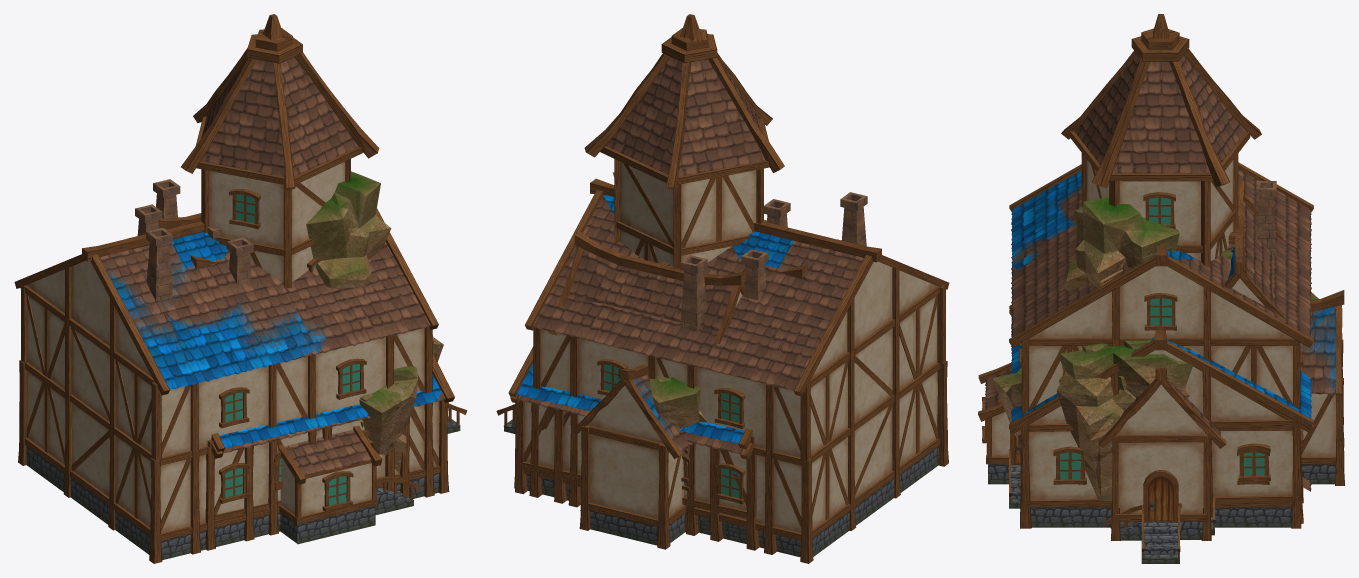
Rendered from KitMedieval.fbx.
3 views of the same model, side by side, from view 1: azimuth 30°, elevation 25°; view 2: azimuth 150°, elevation 25°; view 3: azimuth 270°, elevation 25° (orthographic).
Parts seen in each view (by area): view 1: BH8, RH8, Tower, RH3, R4.008, RH7, BH6, R4.003, BH5, R4.006, BH1, BH4; view 2: RH8, Tower, BH8, BH6, RH6, RH3, BH5, RH7, R4.006, BH4, RH4, BH1; view 3: RH8, Tower, BH8, BH6, R4.006, BH5, R4.008, RH7, RH3, RH6, R4.003.
Part boxes in pixels (x1,y1,x2,y2): BH8: (14,229,466,563); RH8: (20,208,466,553); Tower: (181,14,379,288); RH3: (278,425,420,544); R4.008: (306,171,391,288); RH7: (205,367,453,550); BH6: (205,353,454,544); R4.003: (359,340,443,455); BH5: (278,426,420,532); R4.006: (379,335,443,473); BH1: (192,237,253,284); BH4: (153,181,373,447); RH8: (497,185,949,563); Tower: (584,14,784,268); BH8: (496,178,948,563); BH6: (508,346,758,541); RH6: (547,231,745,344); RH3: (572,364,692,549); BH5: (575,366,686,549); RH7: (510,394,759,550); R4.006: (649,377,706,467); BH4: (554,249,746,342); RH4: (741,249,806,300); BH1: (764,199,790,227); RH8: (1009,162,1313,563); Tower: (1061,14,1261,267); BH8: (1009,164,1313,554); BH6: (1009,304,1313,534); R4.006: (992,292,1318,500); BH5: (978,295,1344,508); R4.008: (1064,197,1232,291); RH7: (1009,310,1313,540); RH3: (978,290,1344,502); RH6: (1211,181,1285,350); R4.003: (993,350,1192,500).
Size of what is drawn, in the model's own units: 956 by 1106 by 798.
